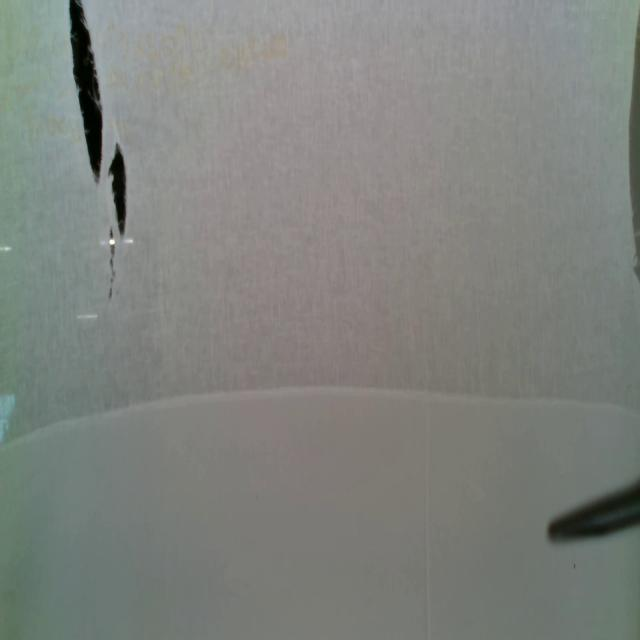crease: (422, 396, 432, 639)
hole: (69, 0, 104, 184), (629, 7, 640, 280), (109, 142, 127, 237), (108, 230, 117, 302), (571, 558, 577, 573)
